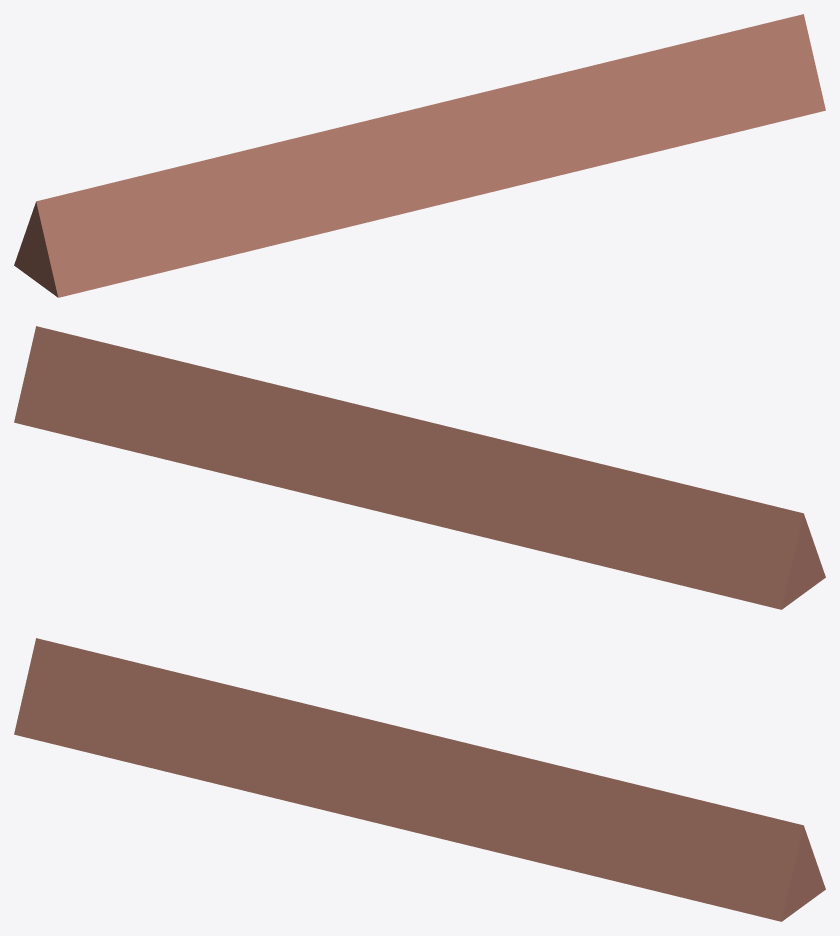
The model's file is mod_roof_hip_ridge.glb.
3 renders of one model, top to bottom at view 1: azimuth 30°, elevation 25°; view 2: azimuth 150°, elevation 25°; view 3: azimuth 330°, elevation 25°, orthographic.
Parts seen in each view (by area): view 1: ridge; view 2: ridge; view 3: ridge.
Part boxes in pixels (bbox=[...]): ridge: bbox=[14, 14, 825, 297]; ridge: bbox=[14, 326, 825, 609]; ridge: bbox=[14, 638, 825, 921].
Bounding box in the file's own units: 1 × 0.1 × 0.1.
